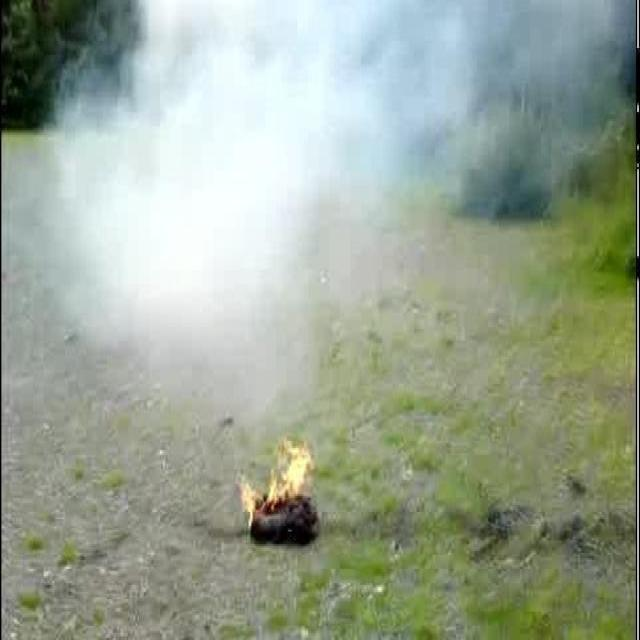Fire: (235, 432, 317, 530)
Smoke: (33, 0, 635, 415)
